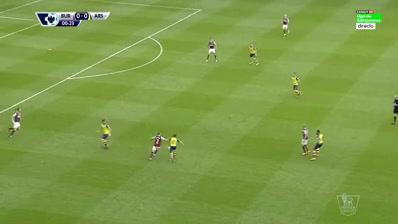player: (7, 105, 27, 140), (97, 118, 114, 153), (146, 130, 164, 163), (309, 129, 327, 162), (166, 132, 185, 162), (289, 71, 306, 101), (298, 122, 312, 158), (205, 37, 220, 66), (247, 40, 261, 69), (279, 11, 292, 40)
referree: (390, 92, 397, 128)
